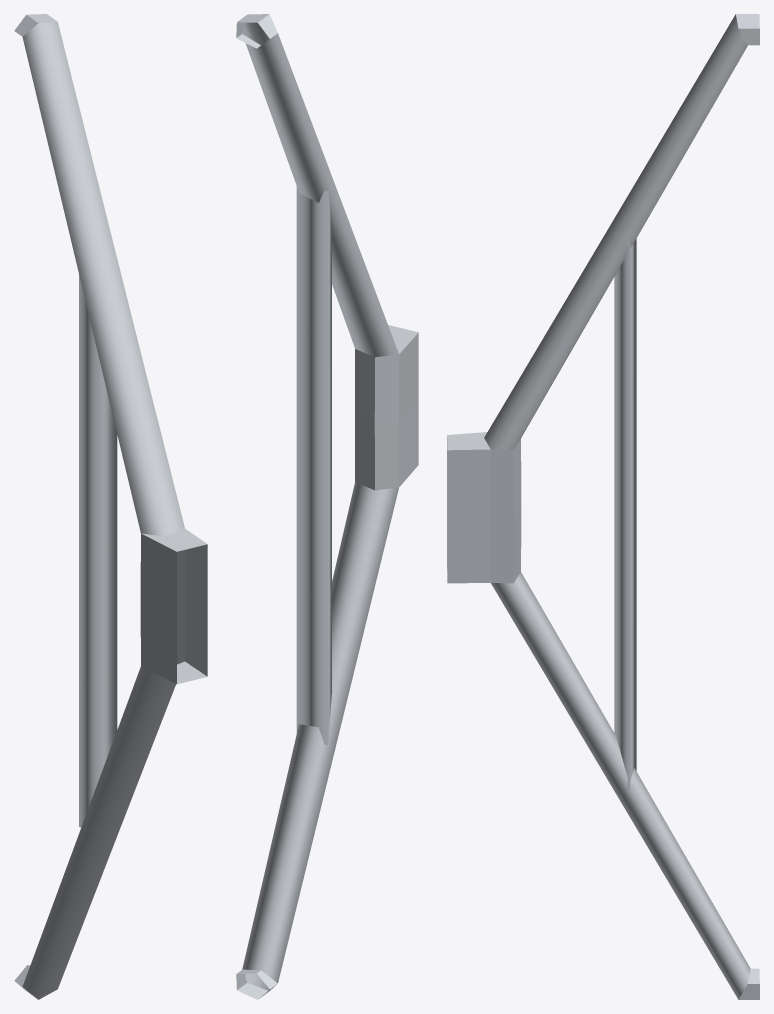
Rendered from DianChiBan-LianJie.FBX.
3 renders of one model, left to right at view 1: azimuth 30°, elevation 25°; view 2: azimuth 150°, elevation 25°; view 3: azimuth 270°, elevation 25°, orthographic.
Parts seen in each view (by area): view 1: DianChiBan-LianJie; view 2: DianChiBan-LianJie; view 3: DianChiBan-LianJie.
Boxes of the visible parts, x1,y1,x2,y2 form: DianChiBan-LianJie: [14, 14, 207, 999]; DianChiBan-LianJie: [236, 14, 418, 999]; DianChiBan-LianJie: [447, 14, 759, 999].
Bounding box in the file's own units: 4.11 × 96.98 × 28.04.
